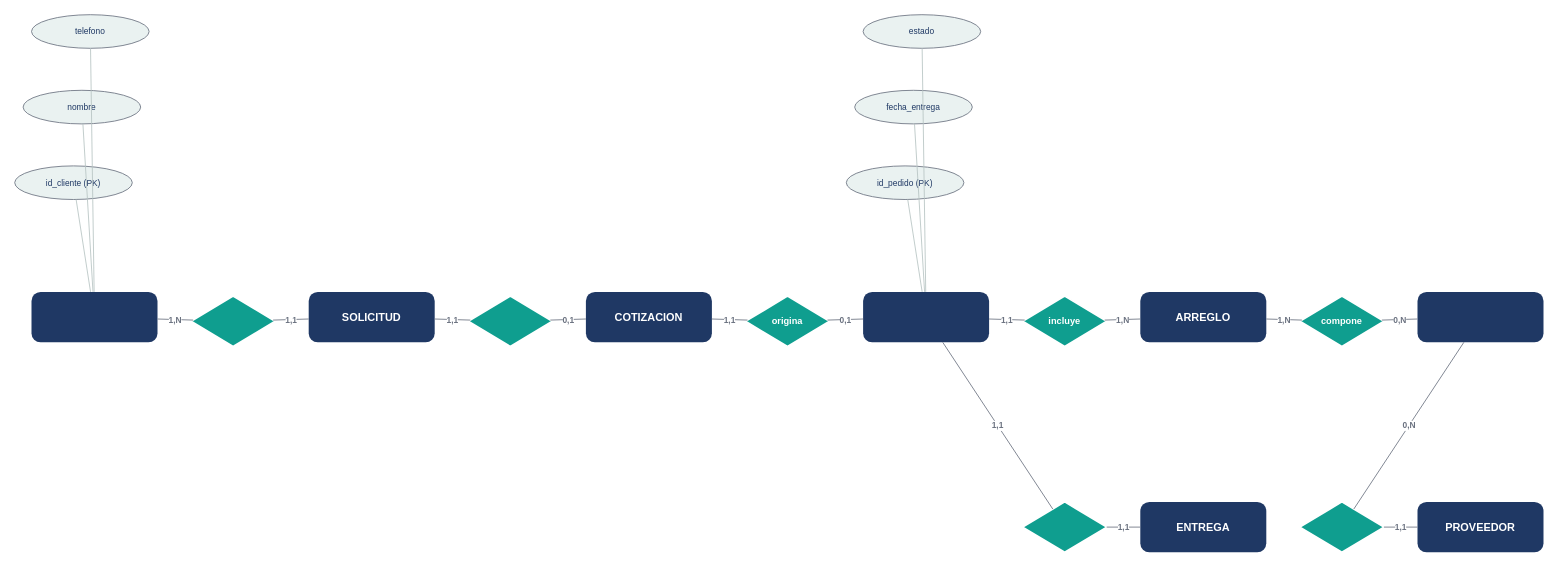
The diagram is 1558 pixels wide and 568 high, and some of its shapes have lost their labels. The shapes that lost their labels are listed below. From the top down, each one's centre as x and y in pixels, then its label:
At (94,316): "CLIENTE".
At (233,321): "realiza".
At (510,321): "genera".
At (926,316): "PEDIDO".
At (1480,316): "MATERIA_PRIMA".
At (1064,527): "produce".
At (1341,527): "suministra".
